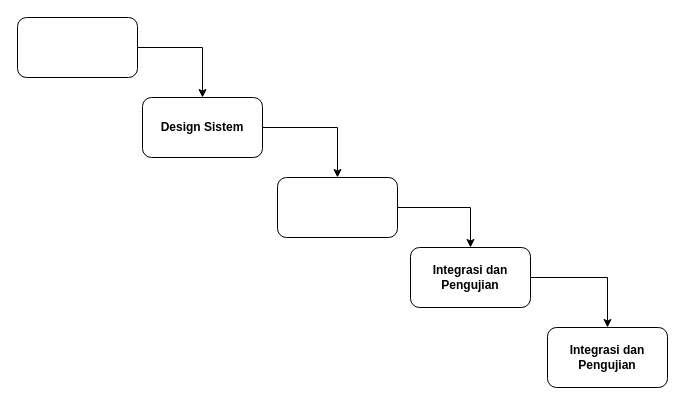
Image size: 685x405. Some labels were removed from this diagram. Each missing label, with the centre of its shape:
"Analisa Kebutuhan" goes at (77,47).
"Implementasi" goes at (337,207).
